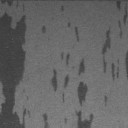red iron: (0, 0, 27, 128), (50, 52, 94, 128), (100, 0, 128, 80), (66, 21, 80, 42), (42, 114, 48, 128), (41, 24, 46, 34), (60, 6, 66, 12), (104, 96, 108, 105)
